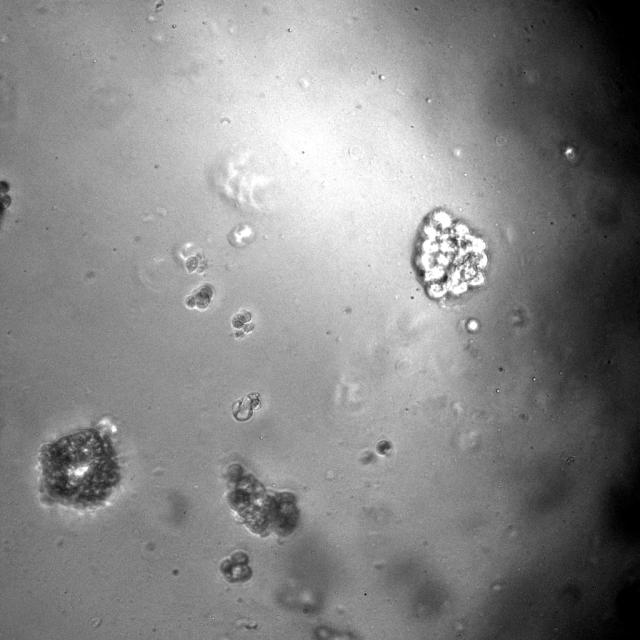organoid: (414, 208, 488, 299), (231, 392, 262, 422), (183, 283, 214, 312), (230, 310, 255, 340), (374, 439, 394, 457)
